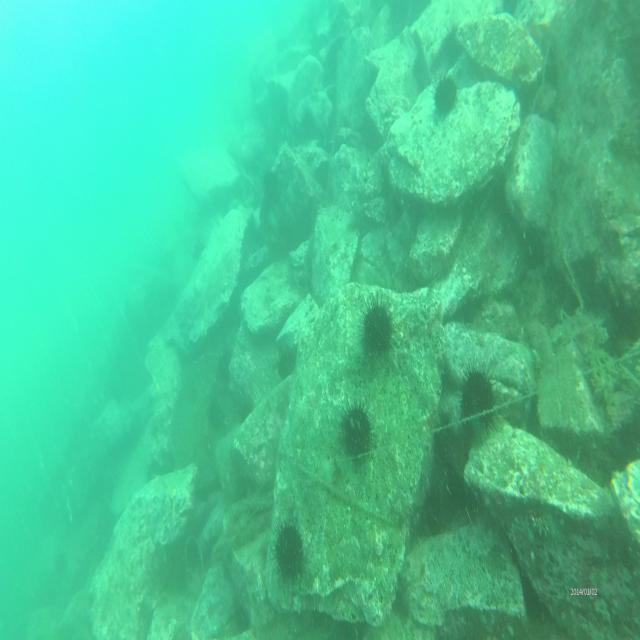echinus: (456, 362, 501, 442), (358, 288, 400, 367), (268, 514, 309, 584), (339, 395, 377, 464), (428, 68, 459, 126), (274, 343, 299, 386), (217, 344, 240, 386), (207, 399, 229, 437)
